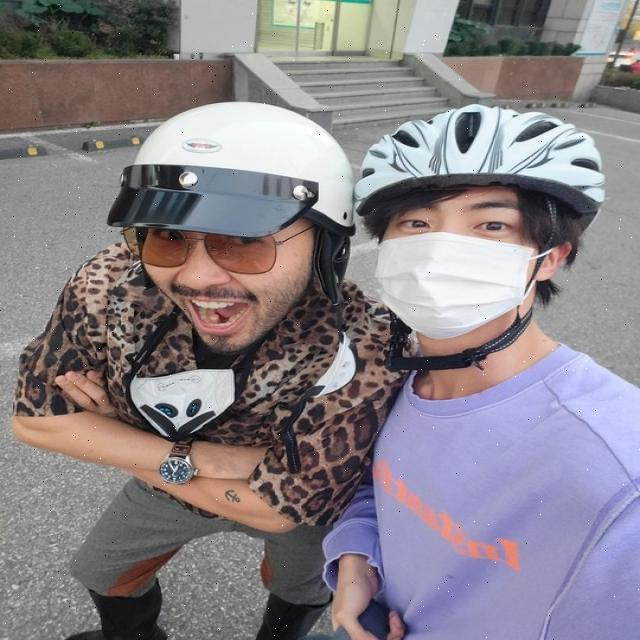helmet: (110, 100, 356, 358), (360, 104, 606, 344)
